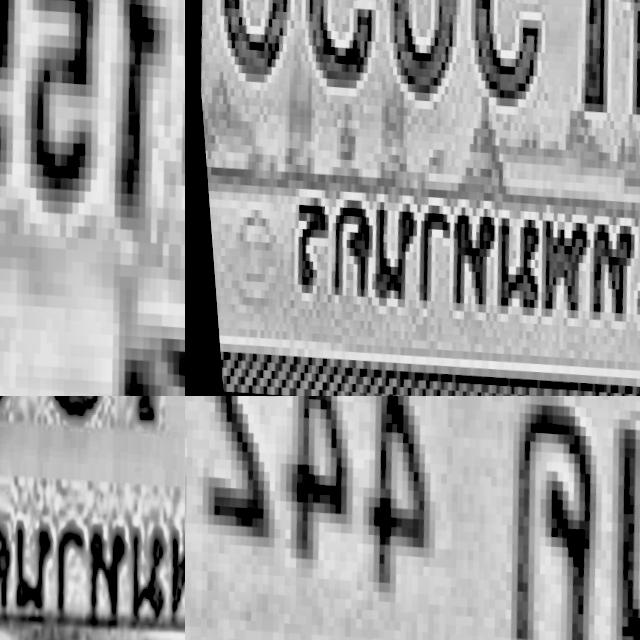license-plate: (185, 0, 640, 396), (185, 396, 640, 640), (0, 0, 185, 396), (0, 396, 185, 640)
